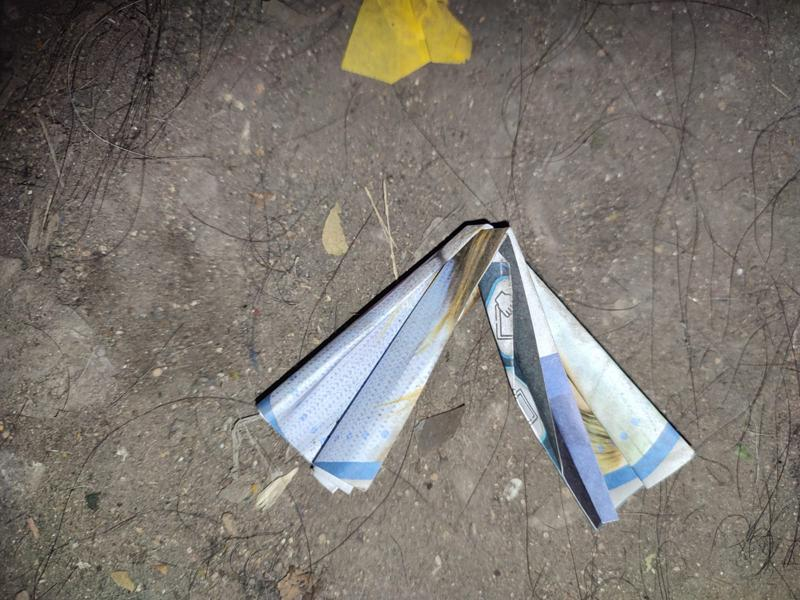papel: (254, 220, 693, 527)
